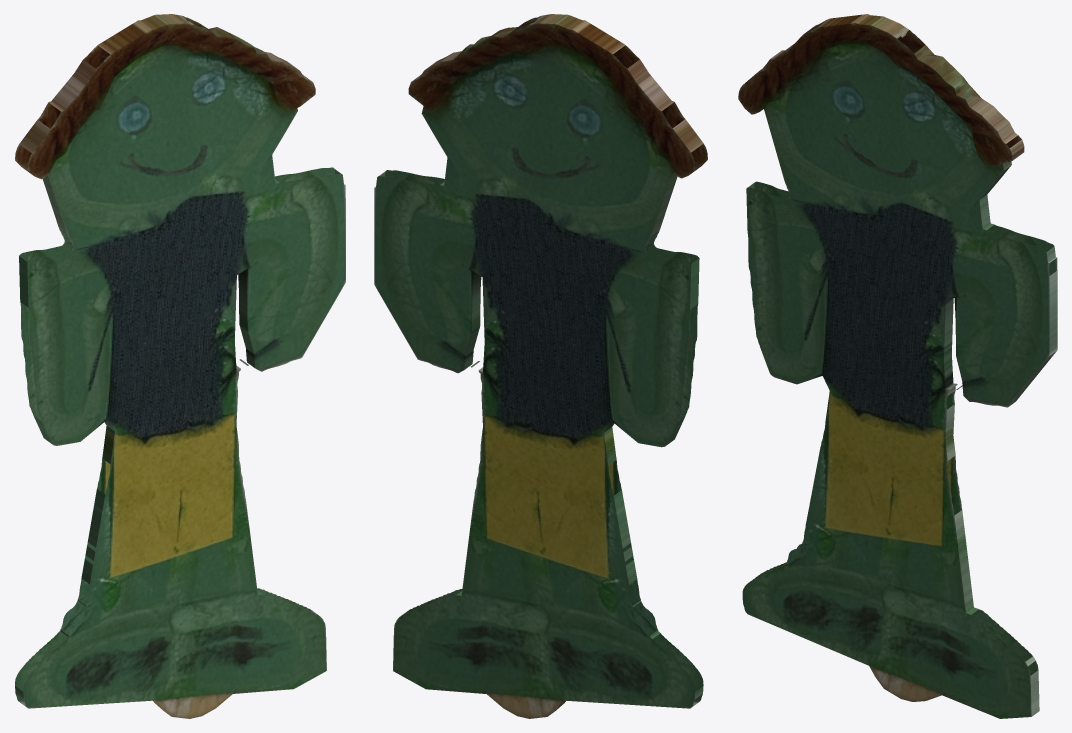
The model's file is personaje10.fbx.
The picture shows the model from 3 angles, left to right: view 1: azimuth 30°, elevation 25°; view 2: azimuth 150°, elevation 25°; view 3: azimuth 330°, elevation 25°; orthographic projection. The views are drawn at different scales.
Parts seen in each view (by area): view 1: Plane; view 2: Plane; view 3: Plane.
Part boxes in pixels (left/top/right/bottom): Plane: left=15, top=14, right=345, bottom=718; Plane: left=374, top=14, right=707, bottom=718; Plane: left=738, top=14, right=1057, bottom=718.
Bounding box in the file's own units: 112 × 233 × 7.69.
1 material, 1 textured.
